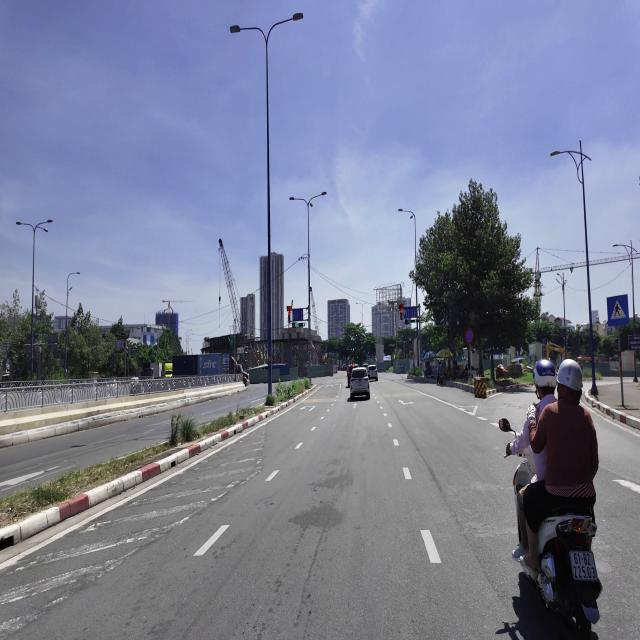car: (350, 367, 370, 399), (347, 364, 356, 387), (368, 365, 378, 381)
motorcycle: (520, 510, 601, 638)
